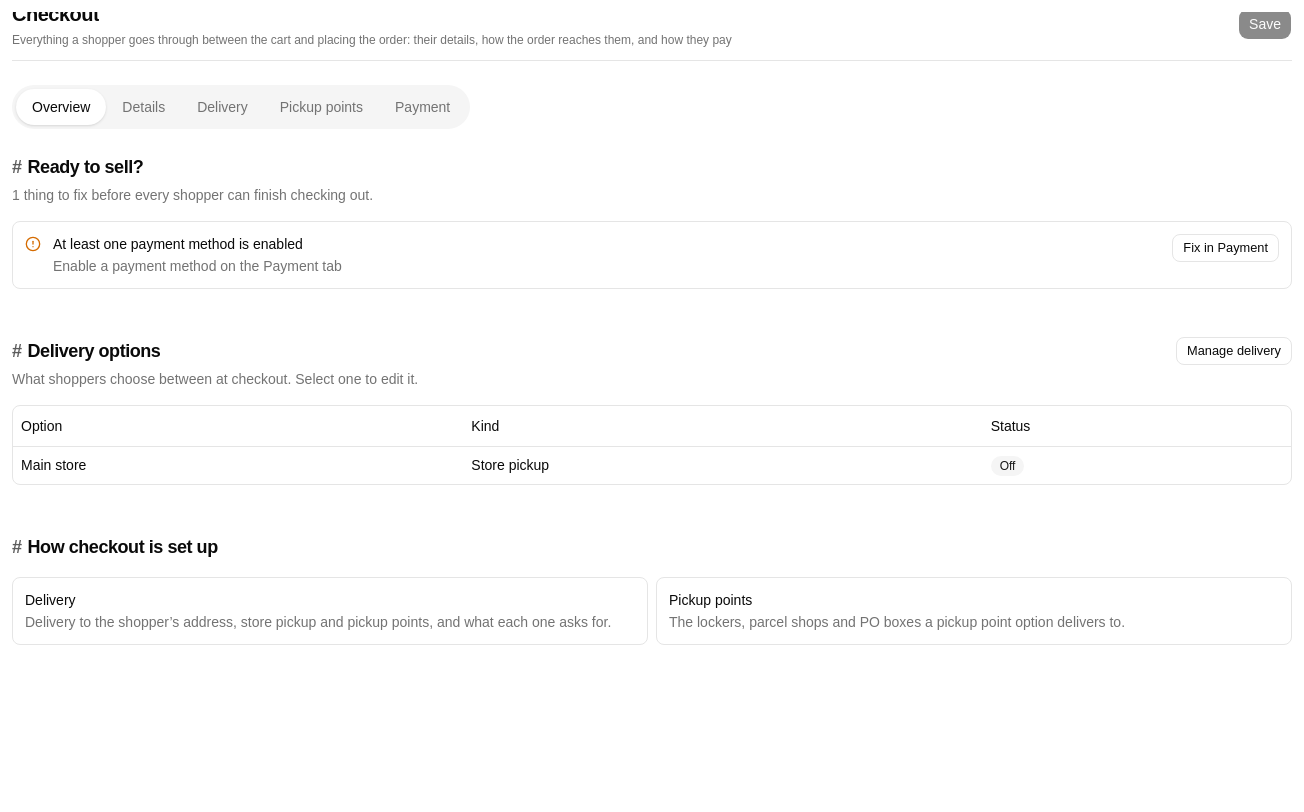
sends a failing payment check to the Payment tab
Click the button "Fix in Payment" at {"x": 1226, "y": 248}, box [1172,234,1279,262]
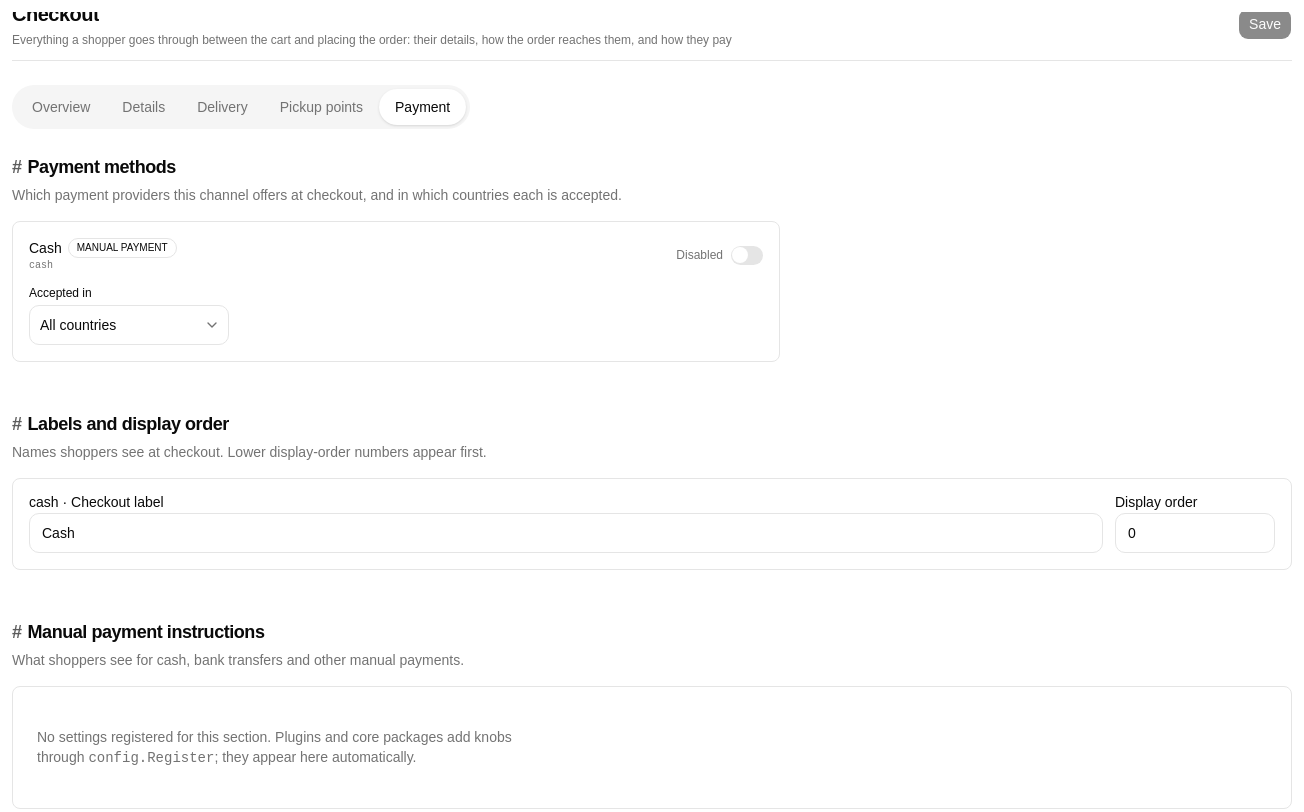
Expected: the heading "# Payment methods" is shown, [12,157,176,177]
